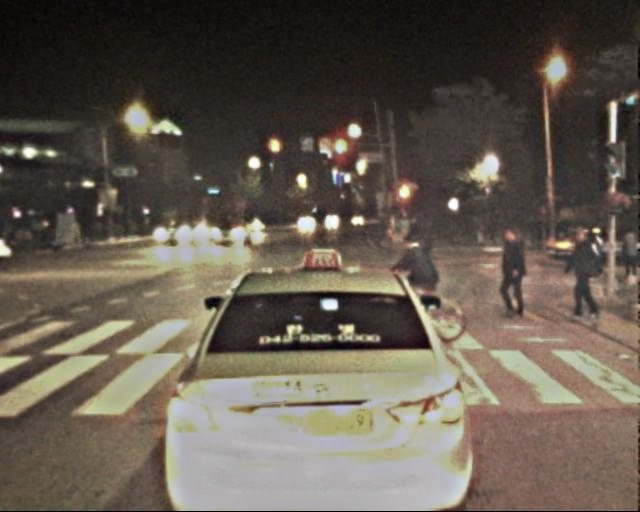person: (497, 226, 537, 323), (405, 235, 444, 329), (566, 227, 605, 321), (614, 223, 639, 283), (584, 225, 608, 283)
